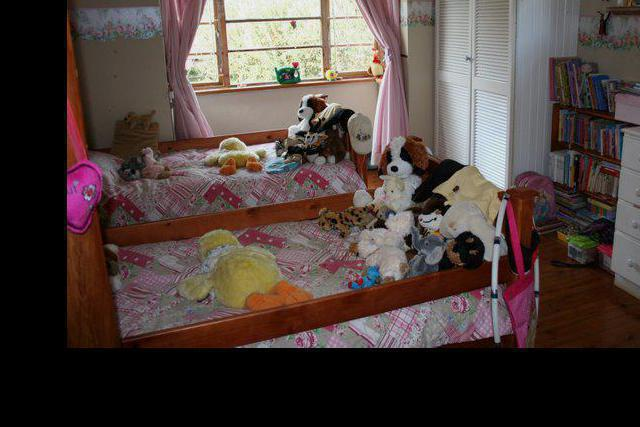Armario: (439, 0, 547, 175)
